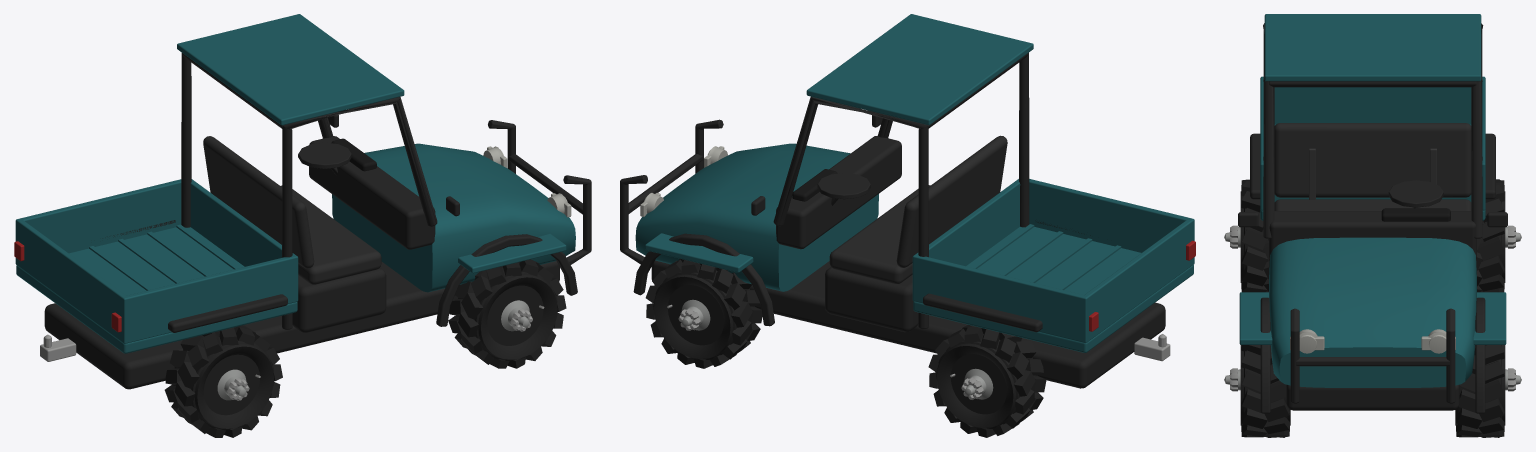
Rendered from SM_Prop_farm_buggy_0.glb.
The picture shows the model from 3 angles, left to right: view 1: azimuth 30°, elevation 25°; view 2: azimuth 150°, elevation 25°; view 3: azimuth 270°, elevation 25°; orthographic projection. The views are drawn at different scales.
Visible parts, largest first — view 1: SM_Prop_farm_buggy_0; view 2: SM_Prop_farm_buggy_0; view 3: SM_Prop_farm_buggy_0.
Boxes of the visible parts, x1,y1,x2,y2 form: SM_Prop_farm_buggy_0: (14,14,591,437); SM_Prop_farm_buggy_0: (620,14,1195,437); SM_Prop_farm_buggy_0: (1224,14,1521,437).
Bounding box in the file's own units: 3.51 × 1.95 × 1.72.
